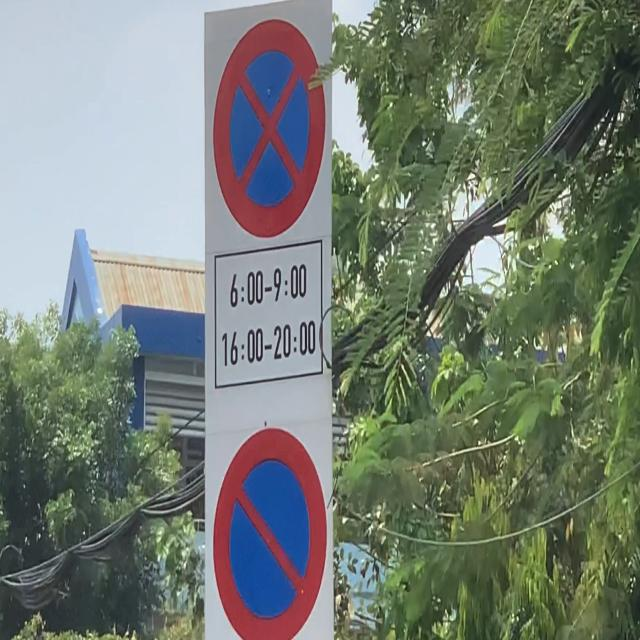Cam do: (211, 427, 328, 640)
Cam dung va do: (212, 17, 326, 242)
